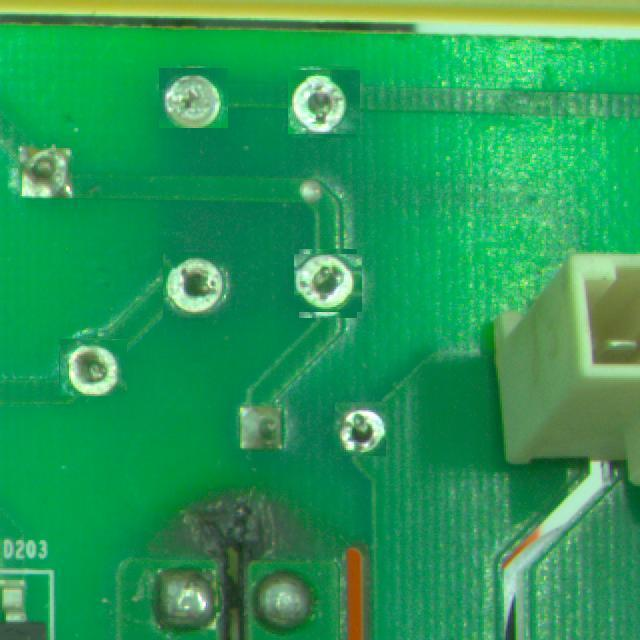lack_of_part: (290, 68, 359, 136), (163, 252, 226, 318), (159, 68, 228, 128), (296, 252, 360, 315), (59, 339, 127, 396), (334, 402, 387, 455)
